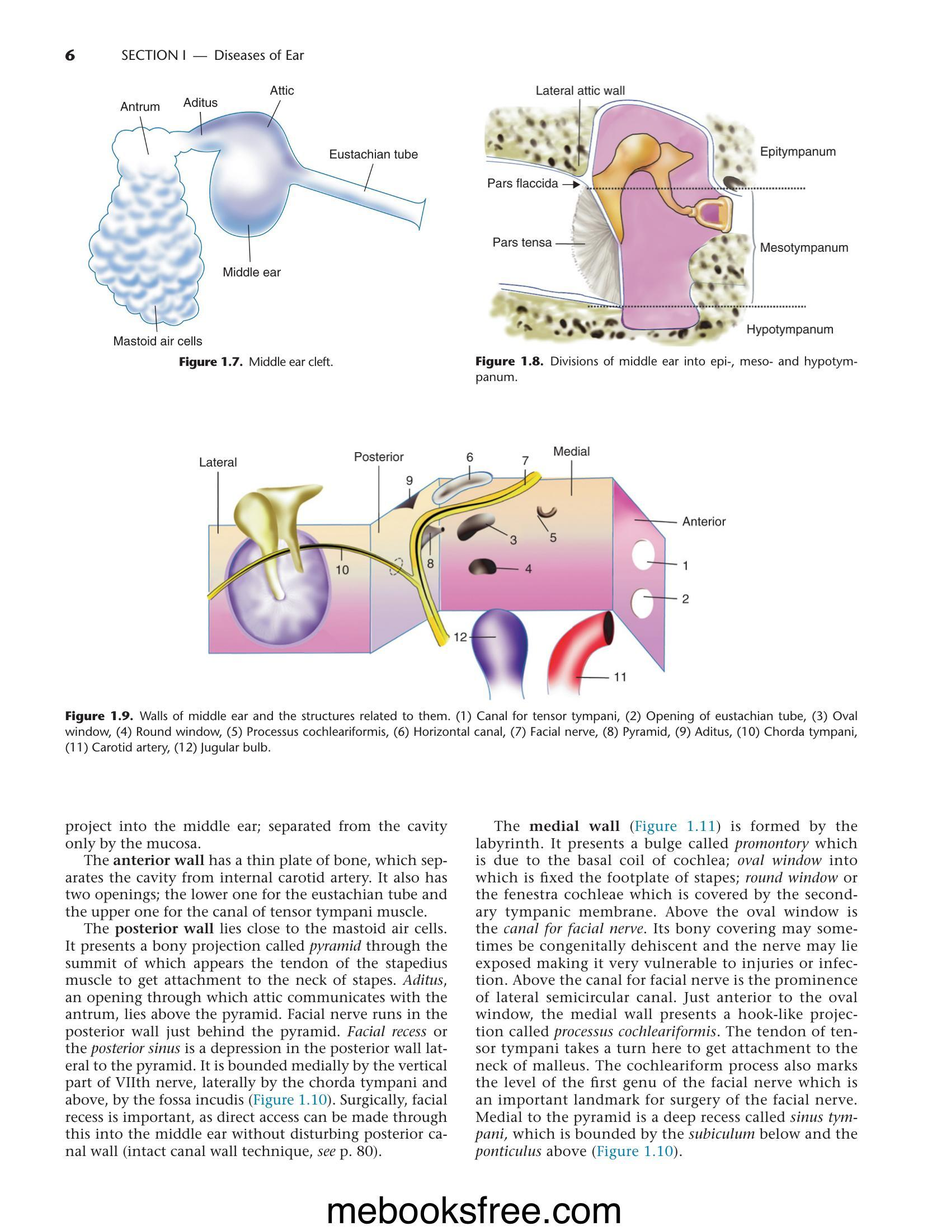caption: (64, 709, 859, 755), (474, 354, 859, 385), (178, 355, 334, 370)
header: (121, 48, 306, 61)
image: (171, 412, 745, 706), (469, 73, 861, 352), (71, 75, 445, 351)
text: (473, 818, 862, 1161), (63, 818, 448, 1161)
